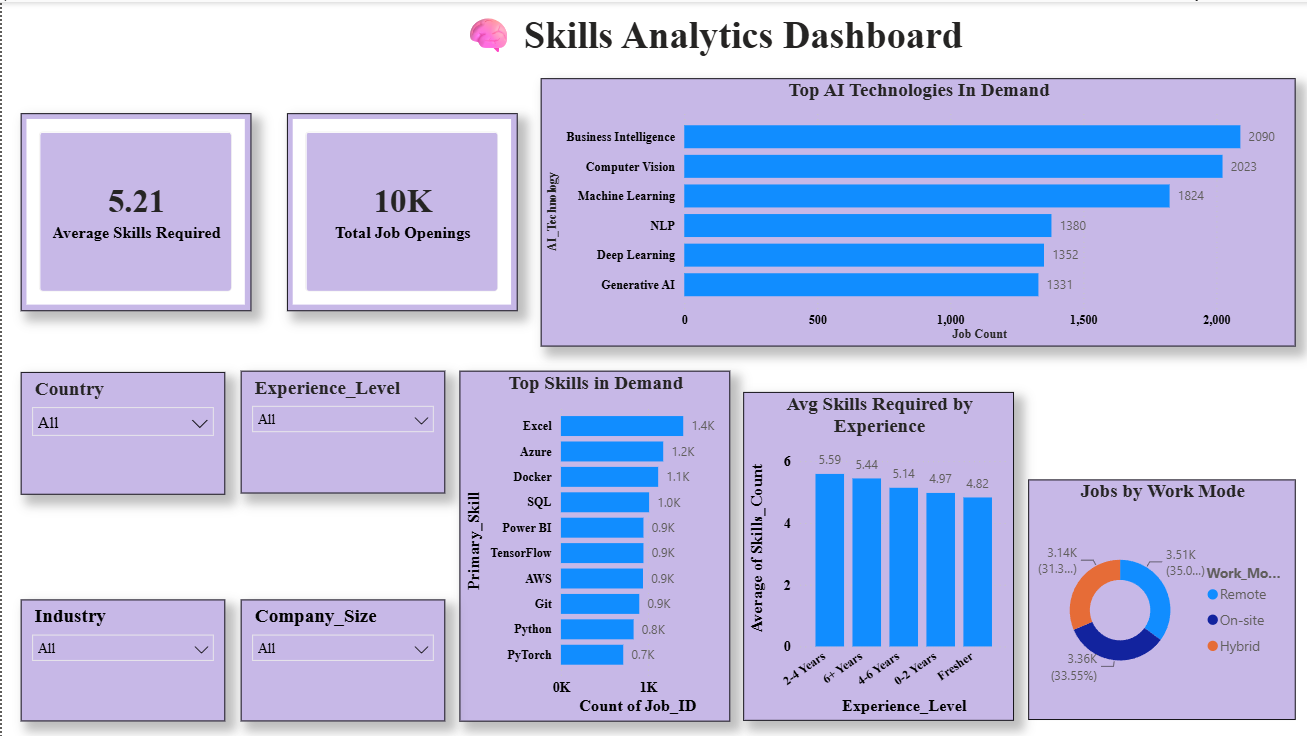

The dashboard page shown, as its layout file describes it:
{"tool":"powerbi","page":{"name":"Skills Analytics","canvas":[1280,720],"ordinal":2},"visuals":[{"type":"textbox","box":[332.6,0,725.1,74.6],"z":0},{"type":"cardVisual","fields":{"Data":["Avg(Jobs.Skills_Count)"]},"box":[18.5,108.5,225.7,193.6],"z":1000},{"type":"cardVisual","fields":{"Data":["Jobs.Total Jobs"]},"box":[278.7,108.5,225.7,193.6],"z":2000},{"type":"slicer","fields":{"Values":["Jobs.Country"]},"box":[18.5,361.4,199.8,119.6],"z":3000},{"type":"slicer","fields":{"Values":["Jobs.Industry"]},"box":[18.5,584.6,199.8,119],"z":4000},{"type":"slicer","fields":{"Values":["Jobs.Experience_Level"]},"box":[233.1,360.1,199.8,119.6],"z":5000},{"type":"clusteredBarChart","title":"Top Skills in Demand","fields":{"Category":["Jobs.Primary_Skill"],"Y":["CountNonNull(Jobs.Job_ID)"]},"box":[447.7,360.1,265.2,342.9],"z":6000},{"type":"clusteredColumnChart","title":"Avg Skills Required by Experience","fields":{"Category":["Jobs.Experience_Level"],"Y":["Avg(Jobs.Skills_Count)"]},"box":[725.2,381.1,265.2,321.9],"z":7000},{"type":"donutChart","title":"Jobs by Work Mode","fields":{"Category":["Jobs.Work_Mode"],"Y":["CountNonNull(Jobs.Job_ID)"]},"box":[1004,467.5,261.5,235.6],"z":8000},{"type":"clusteredBarChart","title":"Top AI Technologies In Demand","fields":{"Category":["Jobs.AI_Technology"],"Y":["CountNonNull(Jobs.Job_ID)"]},"box":[526.7,74,738.8,262.7],"z":9000},{"type":"slicer","fields":{"Values":["Jobs.Company_Size"]},"box":[233.1,584.6,199.8,119],"z":10000}]}

Visuals, with their boxes in screenshot pixels (x1, y1, x2, y2), scaled from the page's 1280x720 canvas onto the 1307x736 screenshot:
textbox: <bbox>340, 0, 1080, 76</bbox>
cardVisual - Avg(Jobs.Skills_Count): <bbox>19, 111, 249, 309</bbox>
cardVisual - Jobs.Total Jobs: <bbox>285, 111, 515, 309</bbox>
slicer - Jobs.Country: <bbox>19, 369, 223, 492</bbox>
slicer - Jobs.Industry: <bbox>19, 598, 223, 719</bbox>
slicer - Jobs.Experience_Level: <bbox>238, 368, 442, 490</bbox>
"Top Skills in Demand" clusteredBarChart: <bbox>457, 368, 728, 719</bbox>
"Avg Skills Required by Experience" clusteredColumnChart: <bbox>740, 390, 1011, 719</bbox>
"Jobs by Work Mode" donutChart: <bbox>1025, 478, 1292, 719</bbox>
"Top AI Technologies In Demand" clusteredBarChart: <bbox>538, 76, 1292, 344</bbox>
slicer - Jobs.Company_Size: <bbox>238, 598, 442, 719</bbox>
